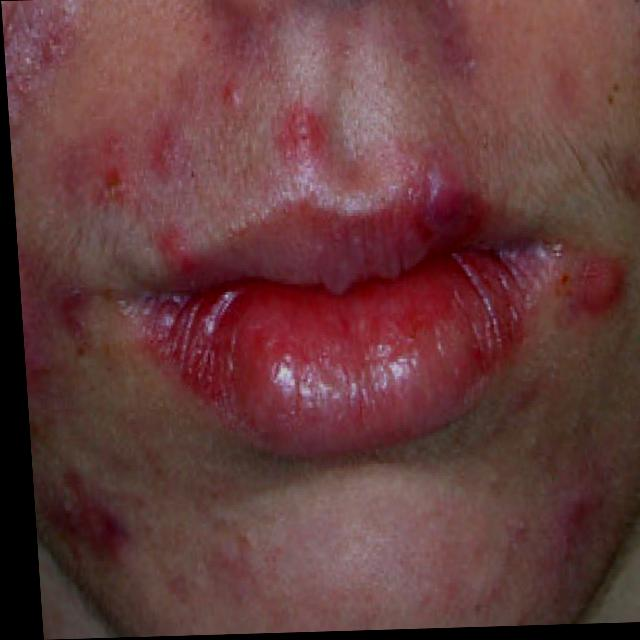blackheads: (418, 163, 455, 221), (579, 265, 619, 309), (288, 112, 320, 152), (556, 488, 585, 521), (100, 502, 127, 534), (159, 226, 185, 259), (444, 39, 466, 71), (54, 492, 74, 525), (24, 348, 46, 377), (99, 161, 117, 193), (227, 83, 236, 108)
